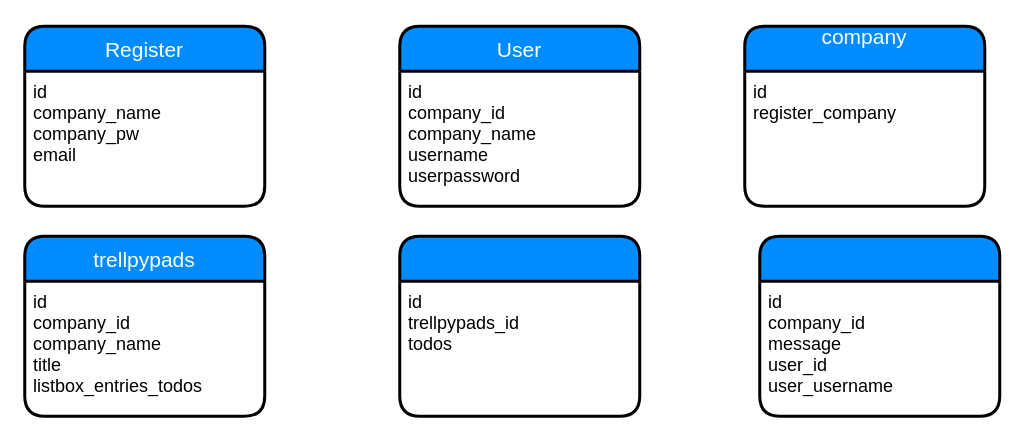
Image size: 1025x441. Some labels were removed from this diagram. Each missing label, with the box of its shape:
Chat: (758, 234, 1000, 417)
listbox_entries: (398, 234, 640, 417)
